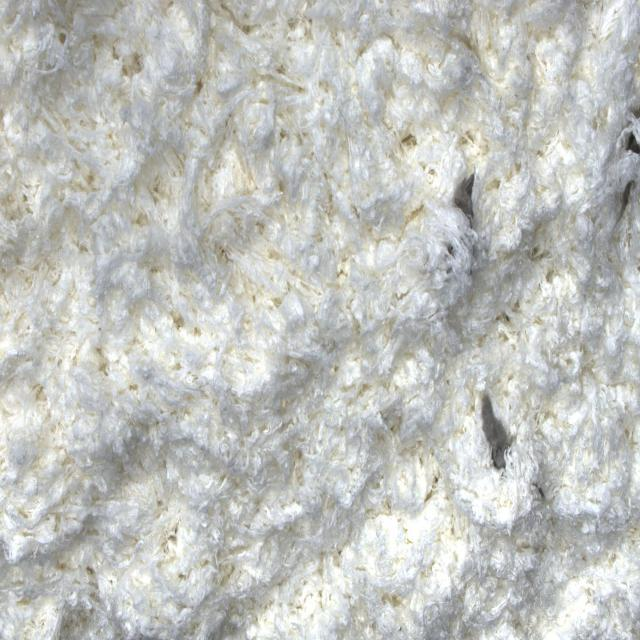dust: (437, 148, 488, 239), (477, 384, 522, 484), (615, 112, 640, 175)
